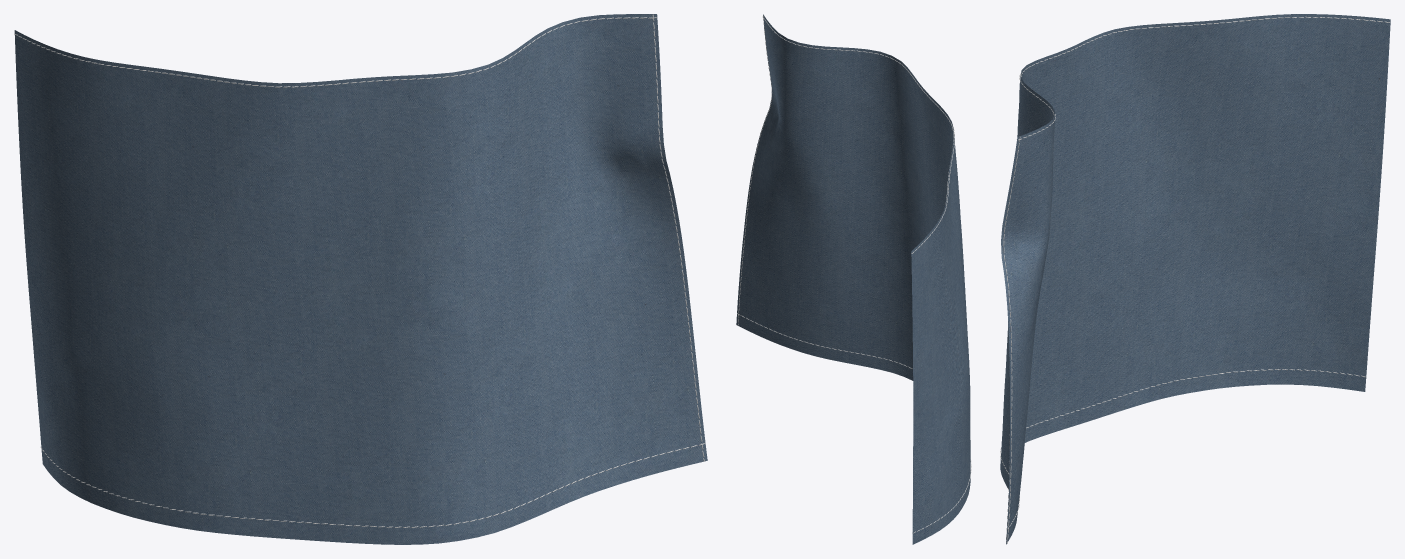
The model's file is sz2youqianxq.glb.
3 views of the same model, side by side, from view 1: azimuth 30°, elevation 25°; view 2: azimuth 150°, elevation 25°; view 3: azimuth 270°, elevation 25° (orthographic). The views are drawn at different scales.
Visible parts, largest first — view 1: sz2youqianxq, _1 _3; view 2: sz2youqianxq, _1 _3; view 3: sz2youqianxq, _1 _3.
Part boxes in pixels (bbox=[...]): sz2youqianxq: bbox=[14, 14, 707, 544]; _1 _3: bbox=[14, 14, 705, 527]; sz2youqianxq: bbox=[736, 14, 970, 544]; _1 _3: bbox=[737, 16, 971, 533]; sz2youqianxq: bbox=[1000, 14, 1390, 544]; _1 _3: bbox=[1000, 16, 1390, 543].
Bounding box in the file's own units: 2.23 × 2.25 × 1.86.
3 materials, 3 textured.
